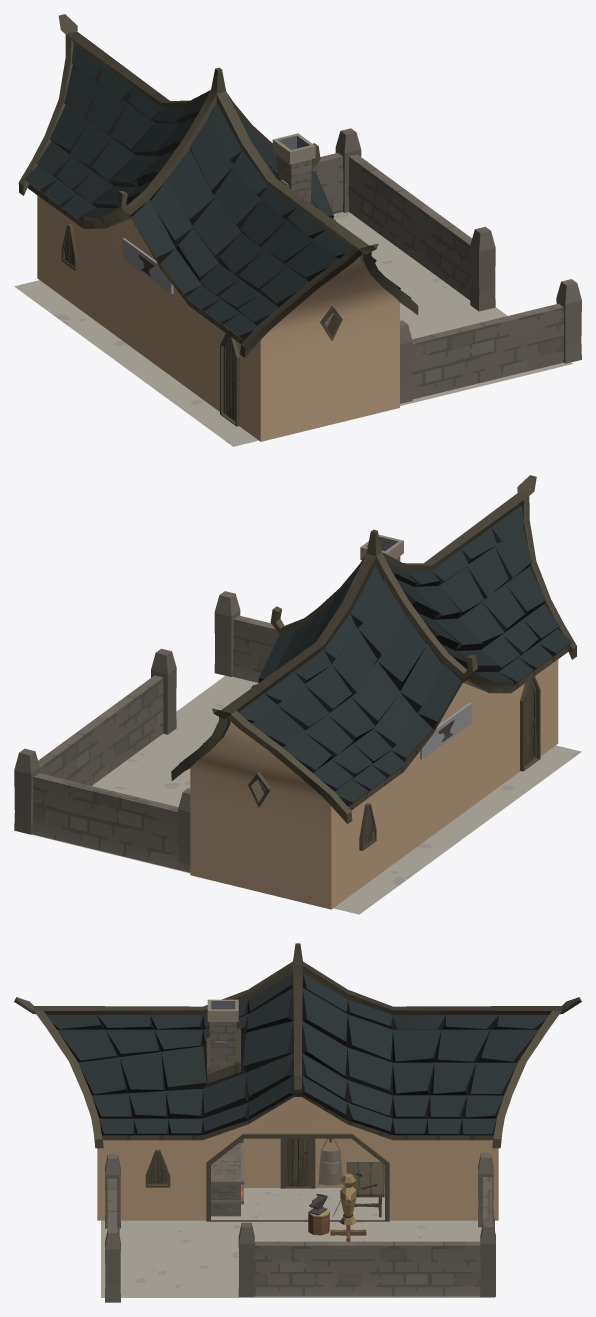
The model's file is Forge.fbx.
The picture shows the model from 3 angles, top to bottom: view 1: azimuth 30°, elevation 25°; view 2: azimuth 150°, elevation 25°; view 3: azimuth 270°, elevation 25°; orthographic projection. The views are drawn at different scales.
Parts seen in each view (by area): view 1: forge house, Wall B, Forge, Furnace, Door 2.004, sign; view 2: forge house, Wall B, Forge, Door 2.004, sign, Furnace; view 3: forge house, Wall B, Forge, Furnace, Door 2.003, workbench, target B, Apron, Log.
Boxes of the visible parts, x1,y1,x2,y2 form: forge house: (18,14,418,441); Wall B: (312,128,581,403); Forge: (14,212,572,446); Furnace: (272,133,315,203); Door 2.004: (223,335,235,421); sign: (122,238,173,293); forge house: (171,475,577,909); Wall B: (14,591,279,872); Forge: (31,675,581,914); Door 2.004: (524,678,536,766); sign: (420,702,471,759); Furnace: (360,534,403,561); forge house: (14,943,581,1221); Wall B: (105,1153,495,1302); Forge: (101,1220,494,1297); Furnace: (207,999,244,1216); Door 2.003: (284,1138,311,1187); workbench: (346,1162,384,1217); target B: (330,1173,366,1241); Apron: (318,1138,342,1185); Log: (308,1208,329,1235).
Size of the model in its own units: 2052 by 1515 by 3159.
